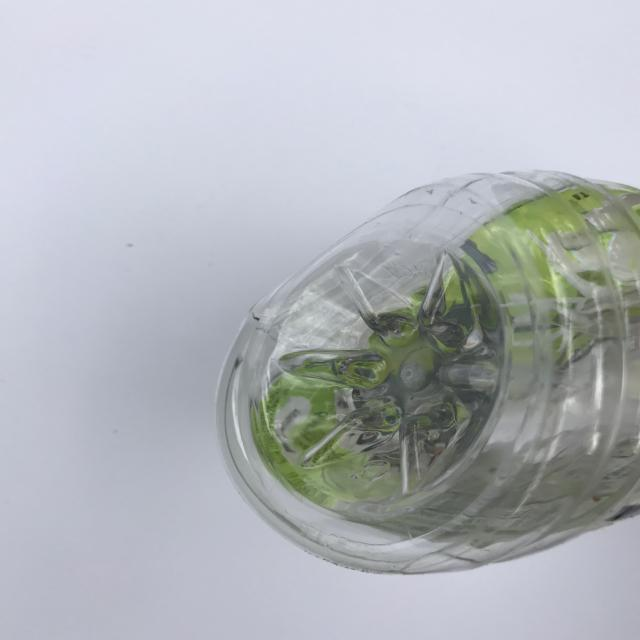plastic: (215, 168, 640, 575)
